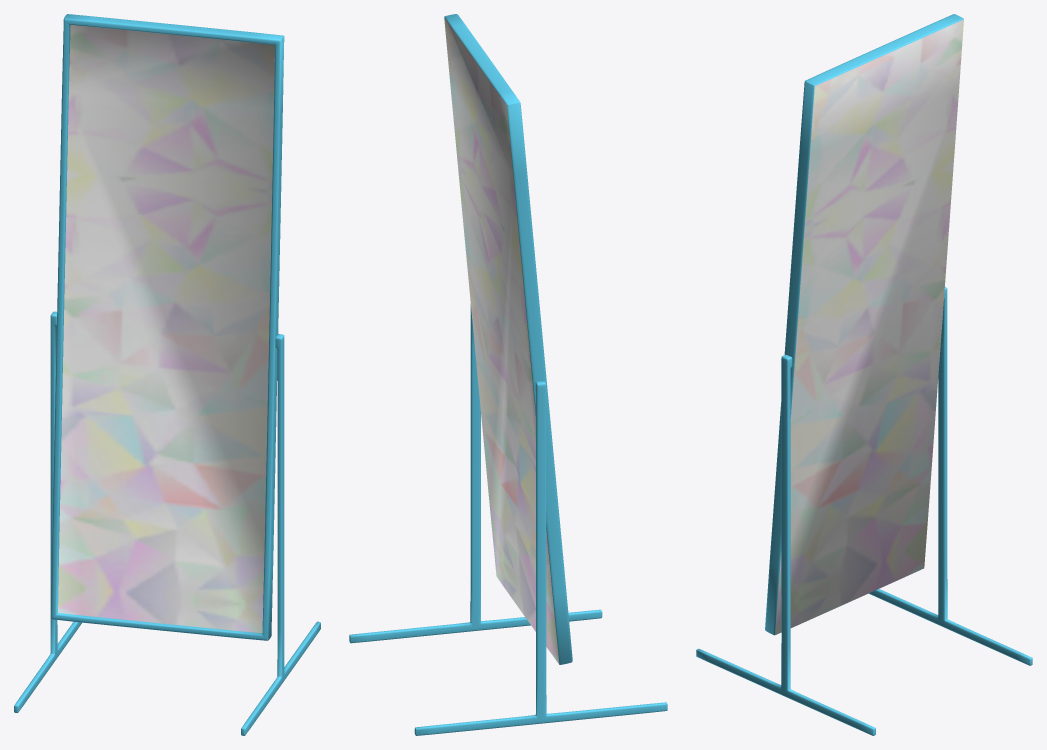
File: s_ayna.obj
The picture shows the model from 3 angles, left to right: view 1: azimuth 30°, elevation 25°; view 2: azimuth 150°, elevation 25°; view 3: azimuth 270°, elevation 25°; orthographic projection. The views are drawn at different scales.
Parts seen in each view (by area): view 1: Box009.014_wall_pembe, Box009.014_m_babyblue; view 2: Box009.014_wall_pembe, Box009.014_m_babyblue; view 3: Box009.014_wall_pembe, Box009.014_m_babyblue.
Boxes of the visible parts, <box> form: Box009.014_wall_pembe: <box>58,25,274,633</box>; Box009.014_m_babyblue: <box>14,14,320,735</box>; Box009.014_wall_pembe: <box>444,17,559,664</box>; Box009.014_m_babyblue: <box>349,14,667,735</box>; Box009.014_wall_pembe: <box>775,19,963,634</box>; Box009.014_m_babyblue: <box>696,14,1032,735</box>.
Size of the model in its own units: 12.02 by 23.09 by 11.35.
